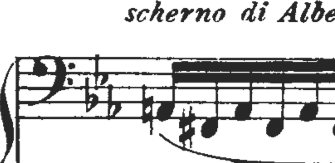bass_clef: (24, 47, 76, 109)
flat: (103, 83, 124, 123), (92, 50, 112, 91), (79, 77, 100, 114)
